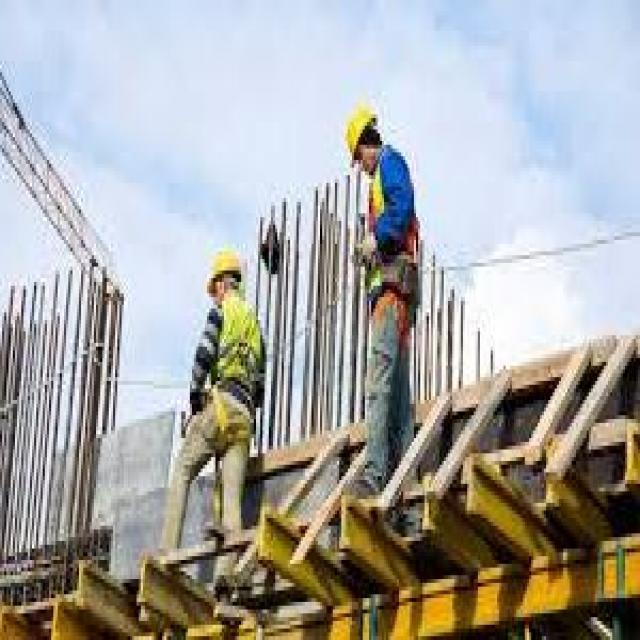reflective_jacket: (356, 148, 424, 323), (194, 297, 271, 445)
safety_helmet: (334, 83, 388, 171), (198, 232, 251, 300)
